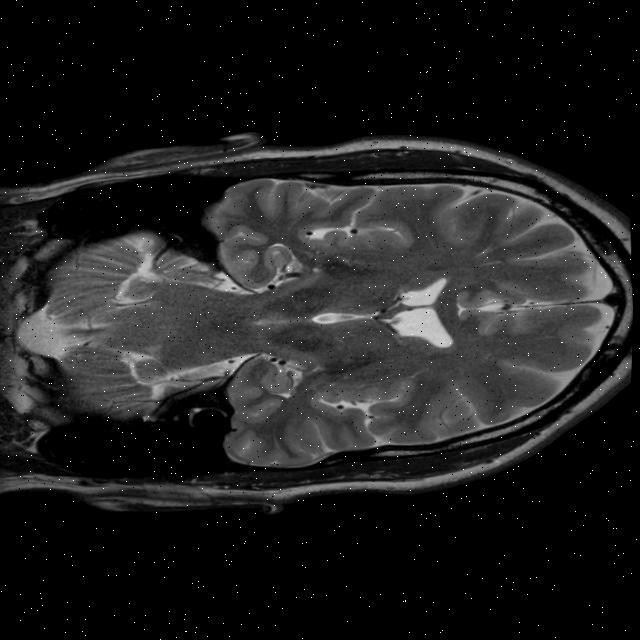NoTumor: (188, 119, 637, 504)
